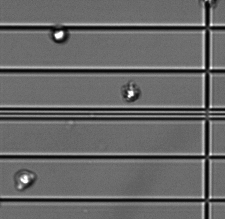Living Cell: (12, 168, 37, 192), (121, 81, 141, 103), (49, 26, 70, 45)
